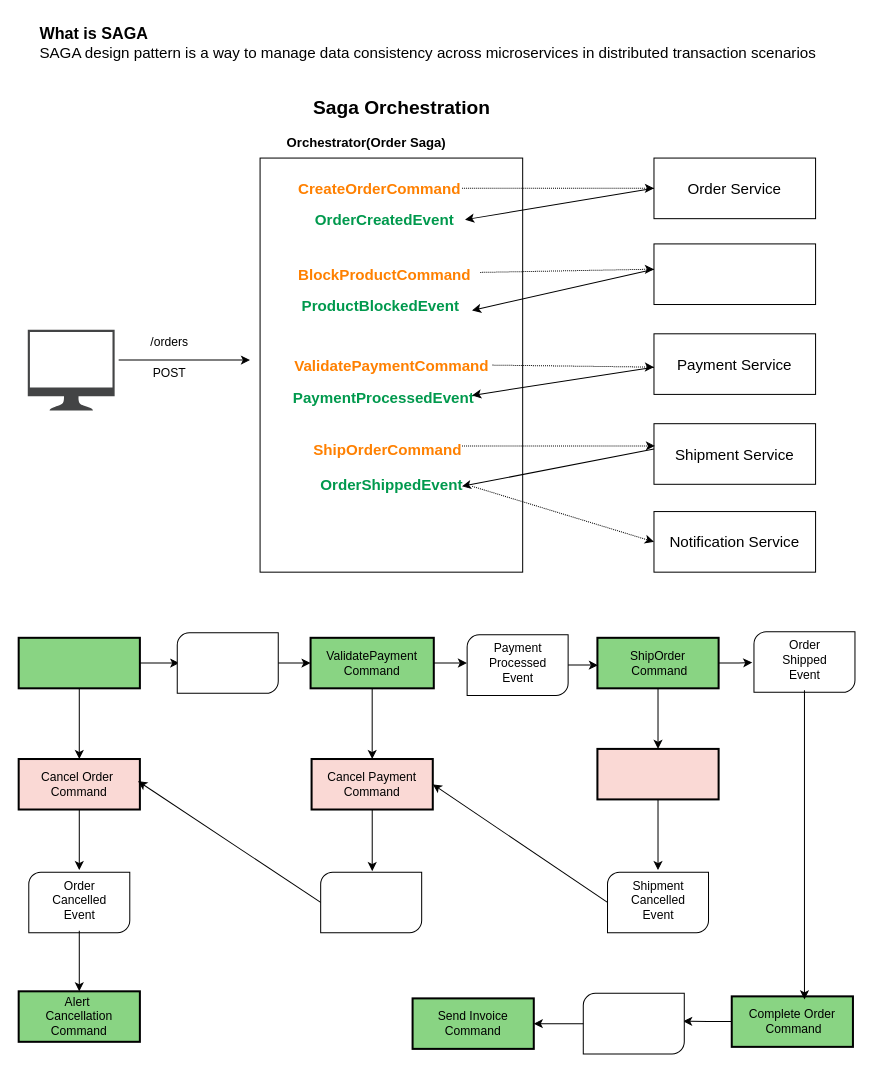
The diagram is 873 pixels wide and 1072 high, and some of its shapes have lost their labels. Here are the shapes that lost their labels. From the top down, the centre of each, then its label:
the point at 734,274: Product Service
the point at 70,369: API
the point at 78,662: CreateOrder Command
the point at 227,662: Order Created Event
the point at 657,773: Cancel Shipment Command
the point at 371,902: Payment Cancelled Event
the point at 633,1023: Order Completed Event
